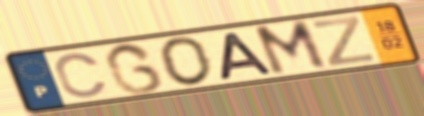A: (218, 30, 277, 83)
C: (53, 51, 110, 99)
G: (102, 41, 168, 96)
M: (250, 18, 332, 78)
O: (157, 34, 216, 88)
Z: (310, 14, 378, 68)
